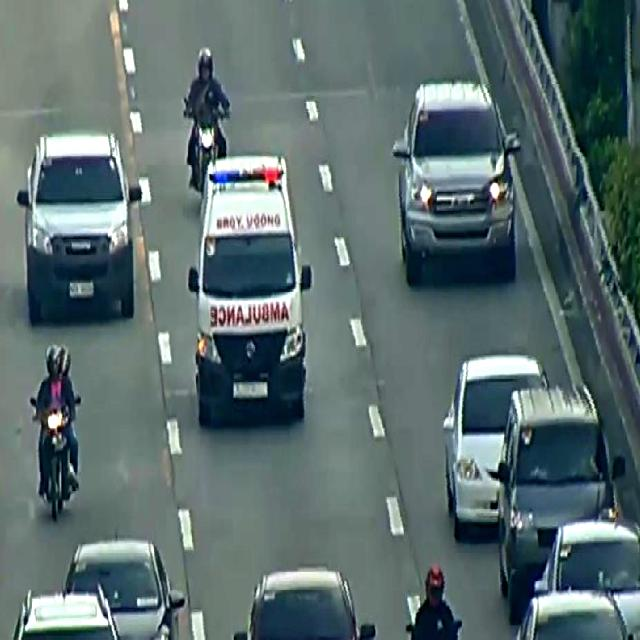emergency: (187, 148, 321, 428)
